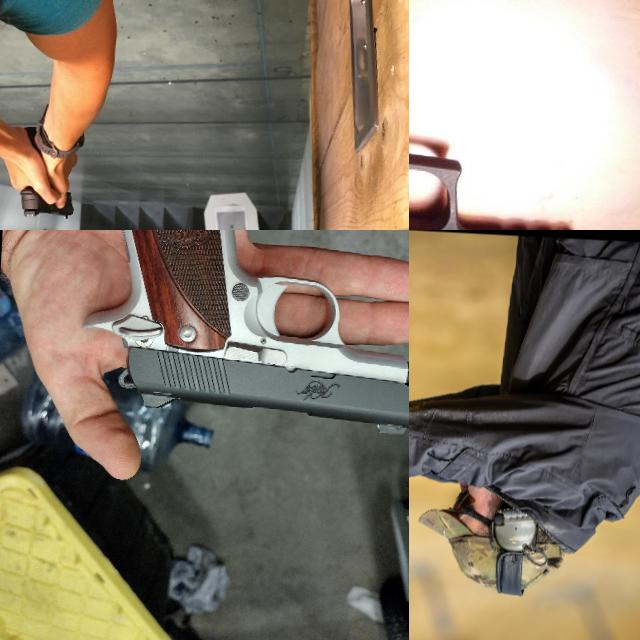handgun: (70, 230, 409, 438), (409, 0, 640, 230), (12, 122, 79, 221), (409, 403, 459, 494)
